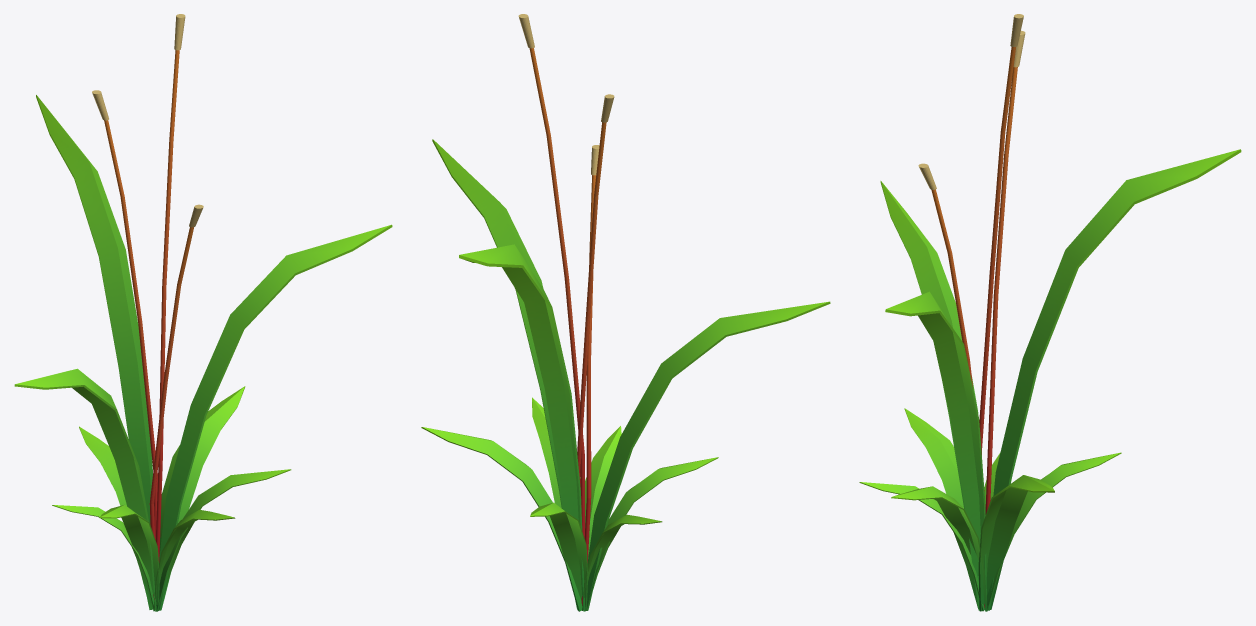
File: ENV_Plant.fbx
3 renders of one model, left to right at view 1: azimuth 30°, elevation 25°; view 2: azimuth 150°, elevation 25°; view 3: azimuth 270°, elevation 25°, orthographic. The views are drawn at different scales.
Visible parts, largest first — view 1: Plant1; view 2: Plant1; view 3: Plant1.
Part boxes in pixels (x1,y1,x2,y2): Plant1: [14, 14, 392, 611]; Plant1: [421, 14, 830, 611]; Plant1: [859, 14, 1241, 611].
Bounding box in the file's own units: 41.24 × 59.19 × 33.34.
